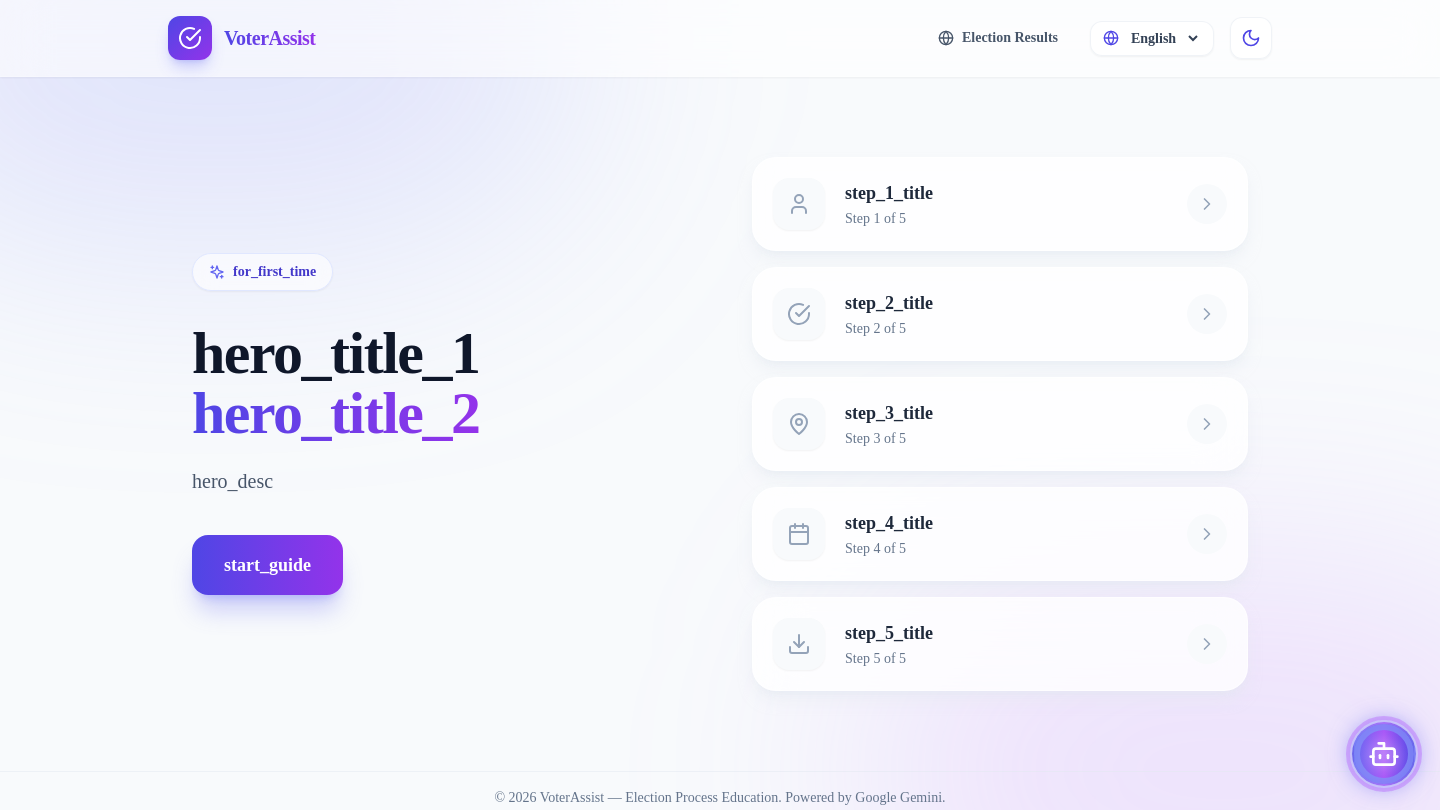
Test: Chat Flow Integration › closes chat when close button is clicked
The image size is (1440, 810).
Click the button named "Open AI Chat".
click(1384, 754)  # box [1352, 722, 1416, 786]
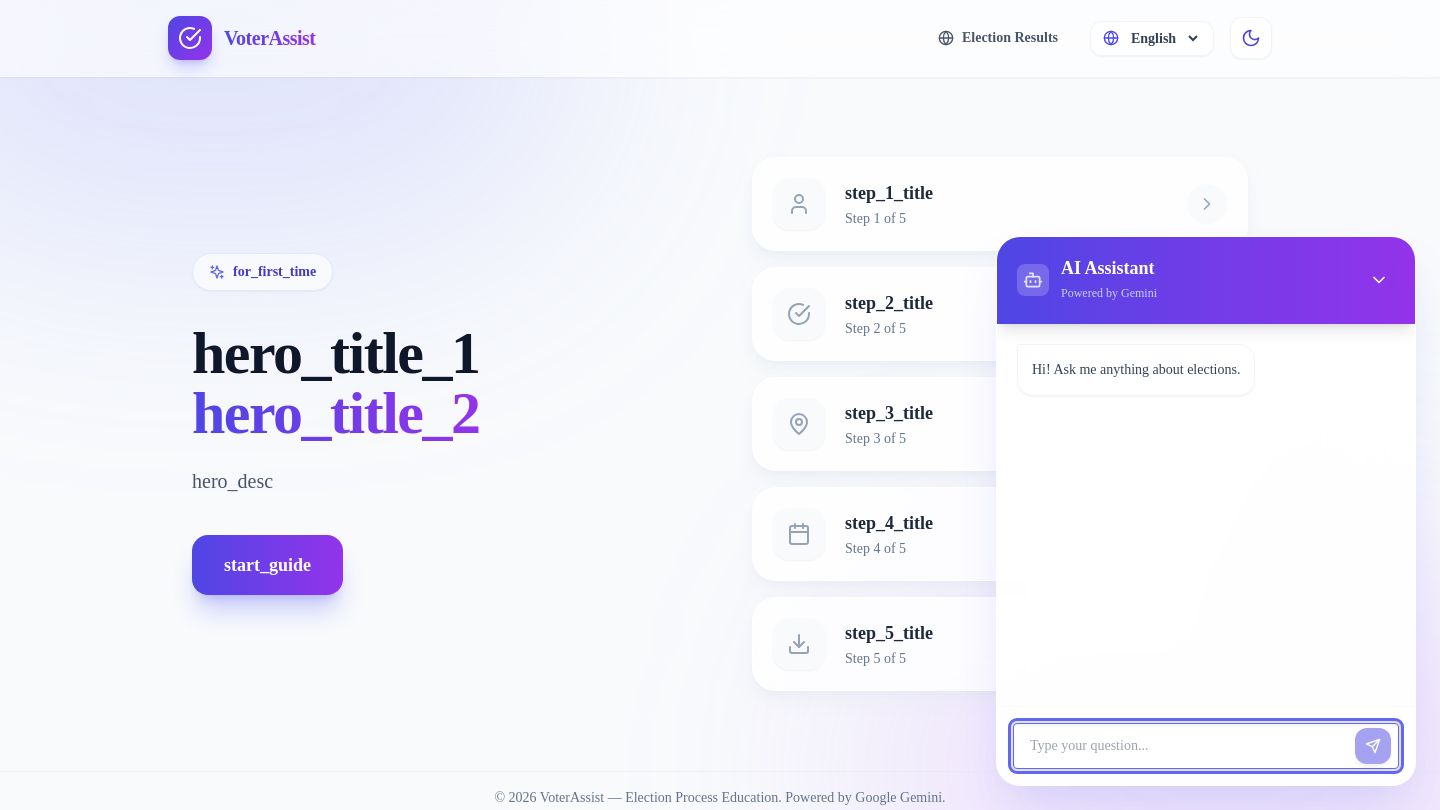
expect the text "AI Assistant" is shown: met, box [1061, 257, 1157, 280]
Click the button named "Close chat".
click(1379, 280)  # box [1363, 264, 1395, 296]
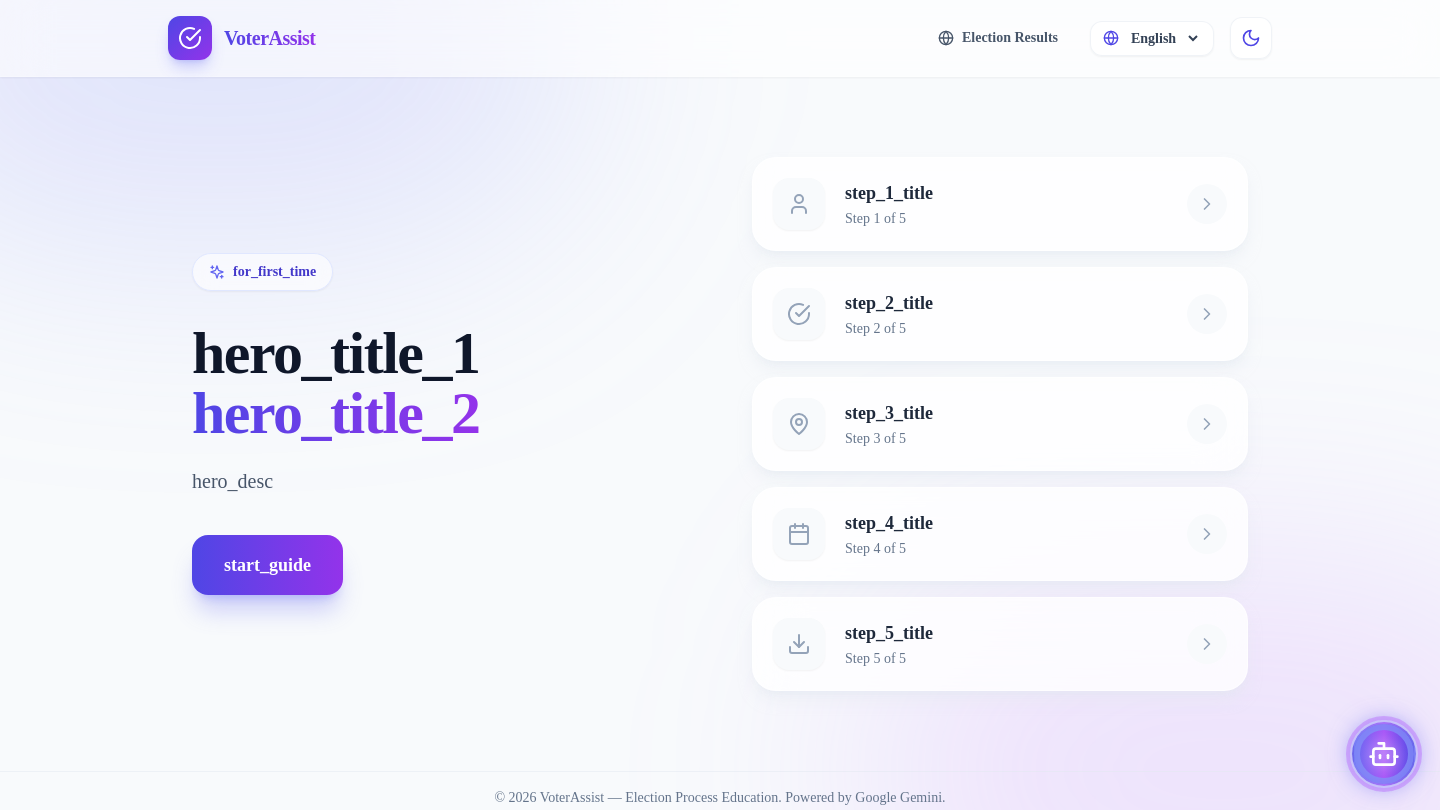
expect the button named "Open AI Chat" is shown: met, box [1352, 722, 1416, 786]
